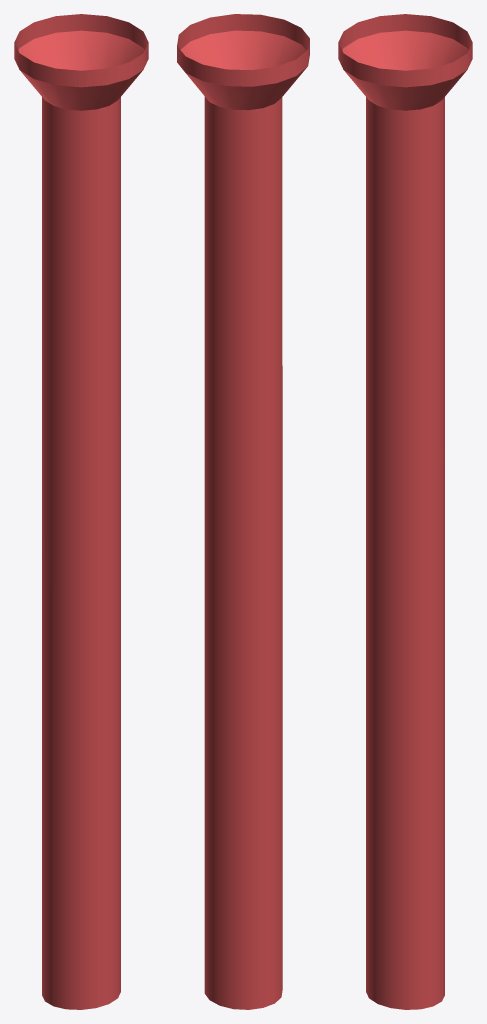
The model's file is Gutter_part_4.fbx.
3 renders of one model, left to right at view 1: azimuth 90°, elevation 25°; view 2: azimuth 210°, elevation 25°; view 3: azimuth 270°, elevation 25°, orthographic.
Parts seen in each view (by area): view 1: Gutter_part_4; view 2: Gutter_part_4; view 3: Gutter_part_4.
Part boxes in pixels (bbox=[...]): Gutter_part_4: bbox=[14, 14, 148, 1009]; Gutter_part_4: bbox=[177, 14, 309, 1009]; Gutter_part_4: bbox=[338, 14, 472, 1009].
Size of the model in its own units: 20.43 by 160 by 20.43.
